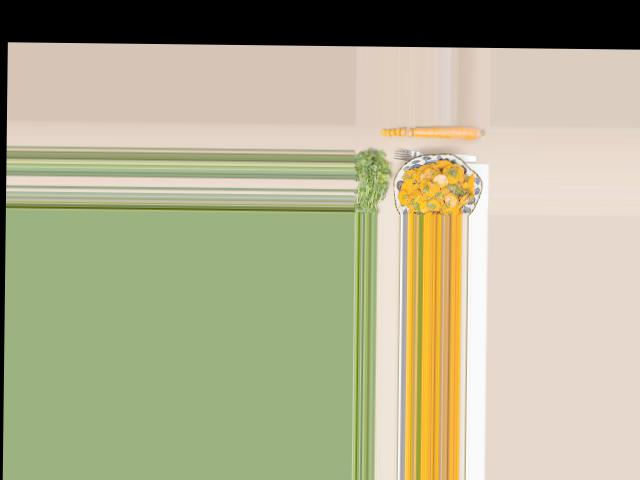carrot: (413, 123, 483, 138)
